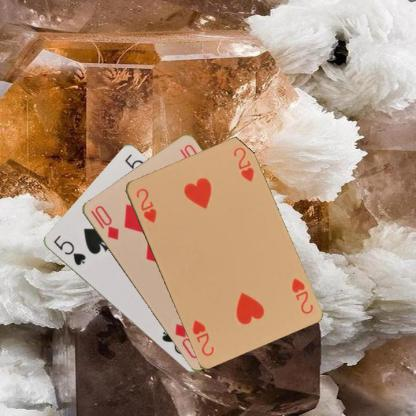10d: (92, 203, 120, 241)
2h: (288, 275, 314, 315), (133, 186, 158, 224)
5s: (50, 232, 88, 267)
